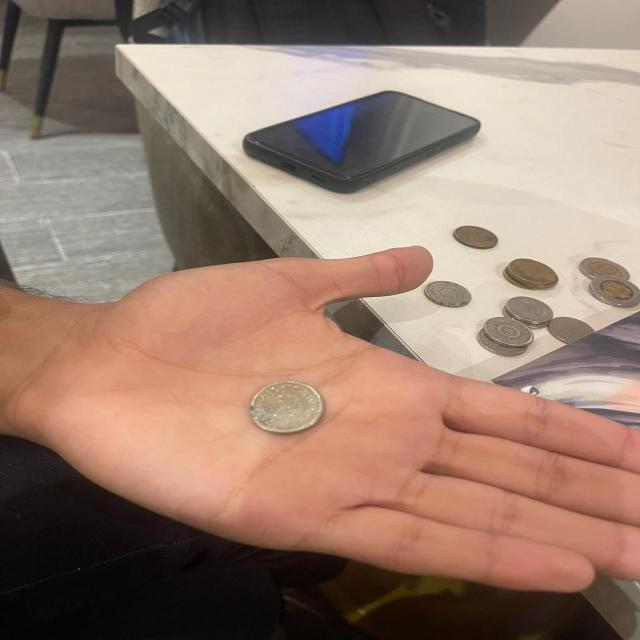Half Pound: (505, 258, 559, 285), (454, 225, 498, 249)
One Pound: (590, 276, 640, 308), (578, 257, 630, 283)
quarter pound: (240, 377, 335, 435), (503, 296, 554, 327), (486, 317, 532, 345), (423, 281, 471, 307), (546, 317, 592, 344), (480, 332, 526, 356)
